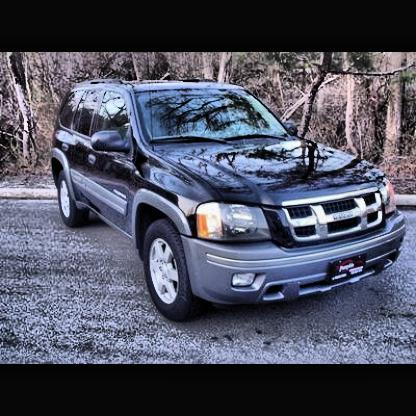Isuzu Ascender SUV 2008: (48, 80, 409, 326)
